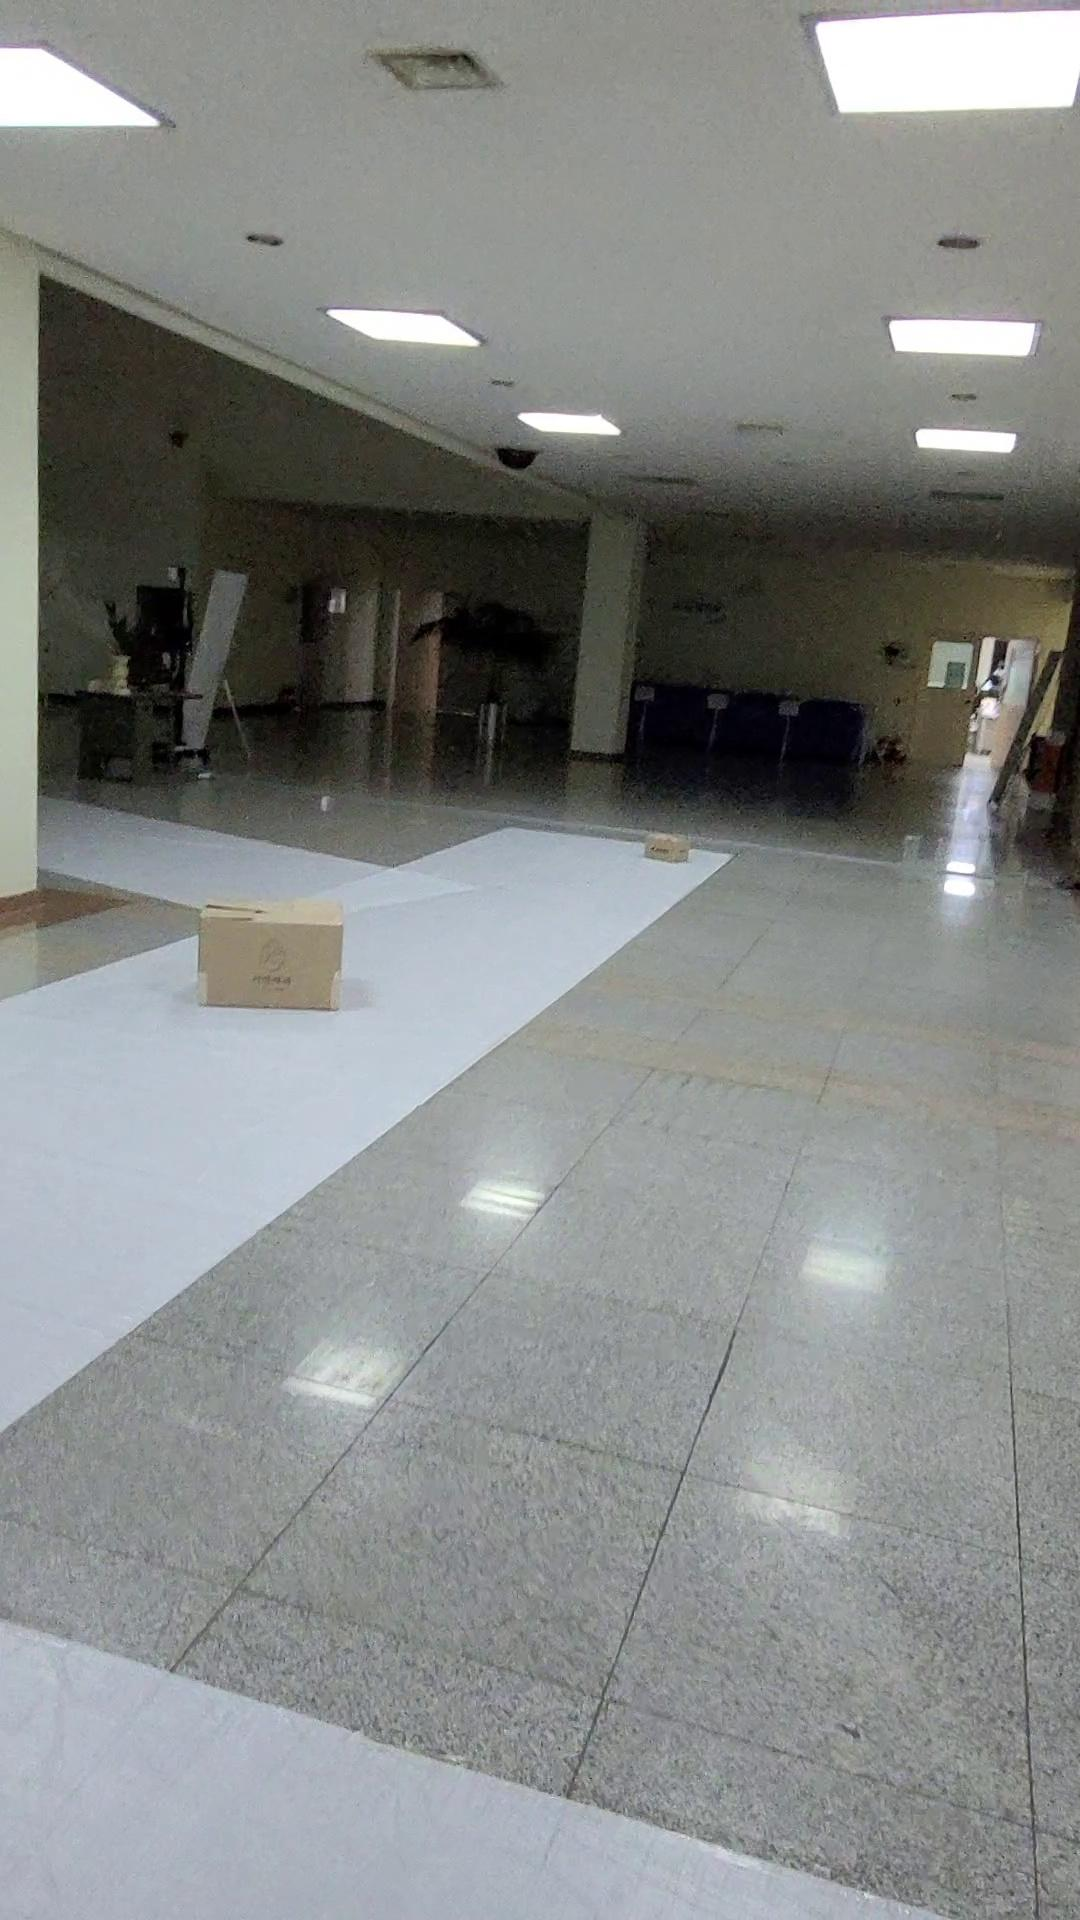Box: (167, 884, 372, 1033), (616, 814, 705, 893)
